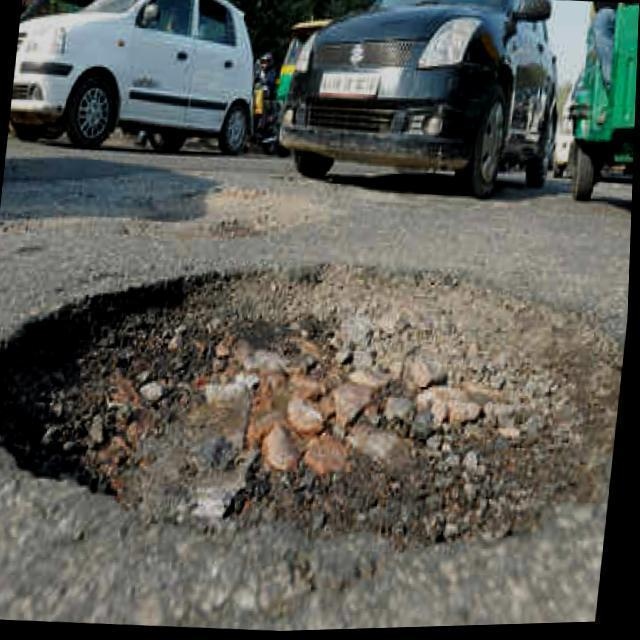Pothole: (0, 265, 628, 545), (117, 182, 321, 248)
